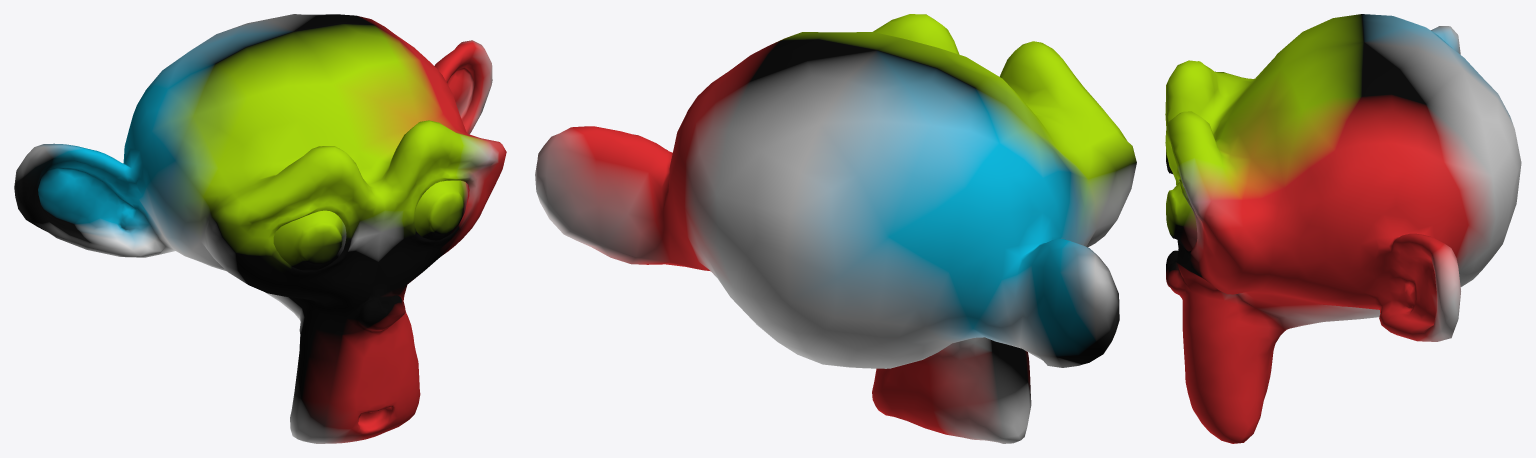
The model's file is suzanneTriangulated2.obj.
3 renders of one model, left to right at view 1: azimuth 30°, elevation 25°; view 2: azimuth 150°, elevation 25°; view 3: azimuth 270°, elevation 25°, orthographic. The views are drawn at different scales.
Visible parts, largest first — view 1: Suzanne; view 2: Suzanne; view 3: Suzanne.
Boxes of the visible parts, box(x1,y1,x2,y2) form: Suzanne: box(14, 14, 506, 443); Suzanne: box(535, 14, 1136, 443); Suzanne: box(1165, 14, 1521, 443).
Size of the model in its own units: 2.67 by 1.92 by 1.62.
